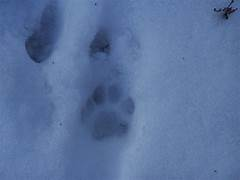beaver: (83, 83, 143, 124), (16, 65, 78, 99), (147, 59, 203, 93)
